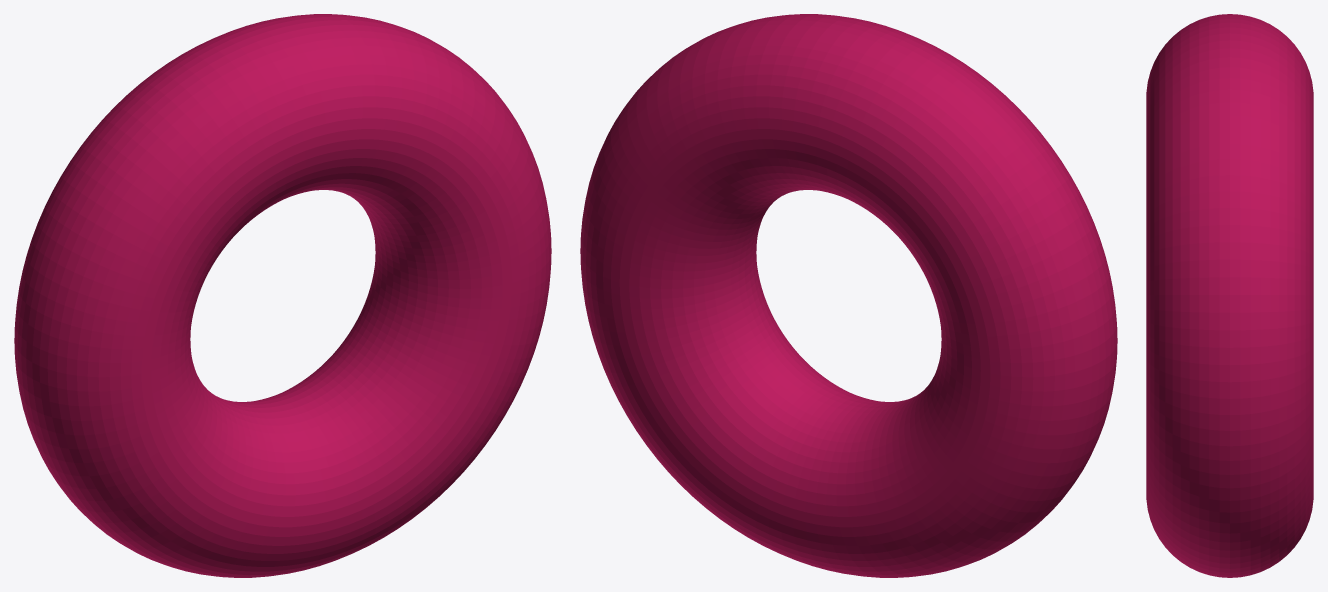
3 views of the same model, side by side, from view 1: azimuth 30°, elevation 25°; view 2: azimuth 150°, elevation 25°; view 3: azimuth 270°, elevation 25° (orthographic). The views are drawn at different scales.
Parts seen in each view (by area): view 1: world; view 2: world; view 3: world.
Boxes of the visible parts, x1,y1,x2,y2 form: world: [14, 14, 551, 577]; world: [580, 14, 1117, 577]; world: [1146, 14, 1313, 577].
Size of the model in its own units: 25.6 by 25.6 by 7.59.
